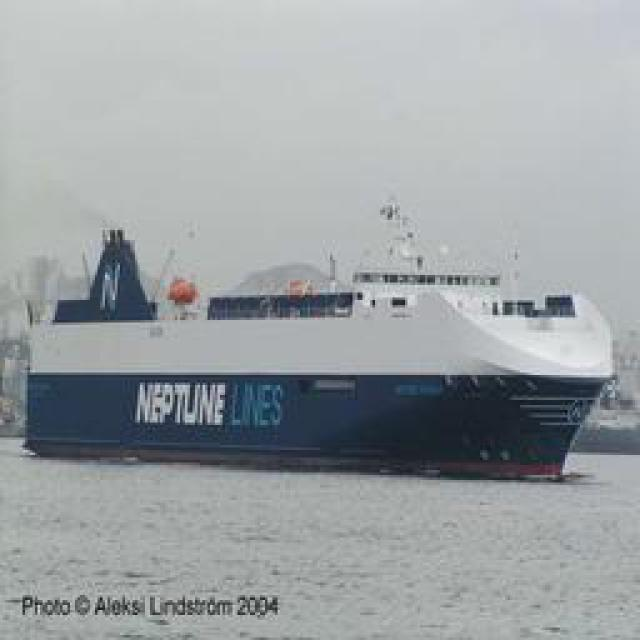Ship: (12, 244, 610, 477)
